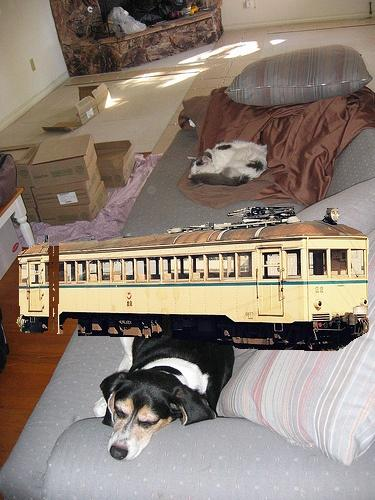tampered: (17, 207, 369, 351)
